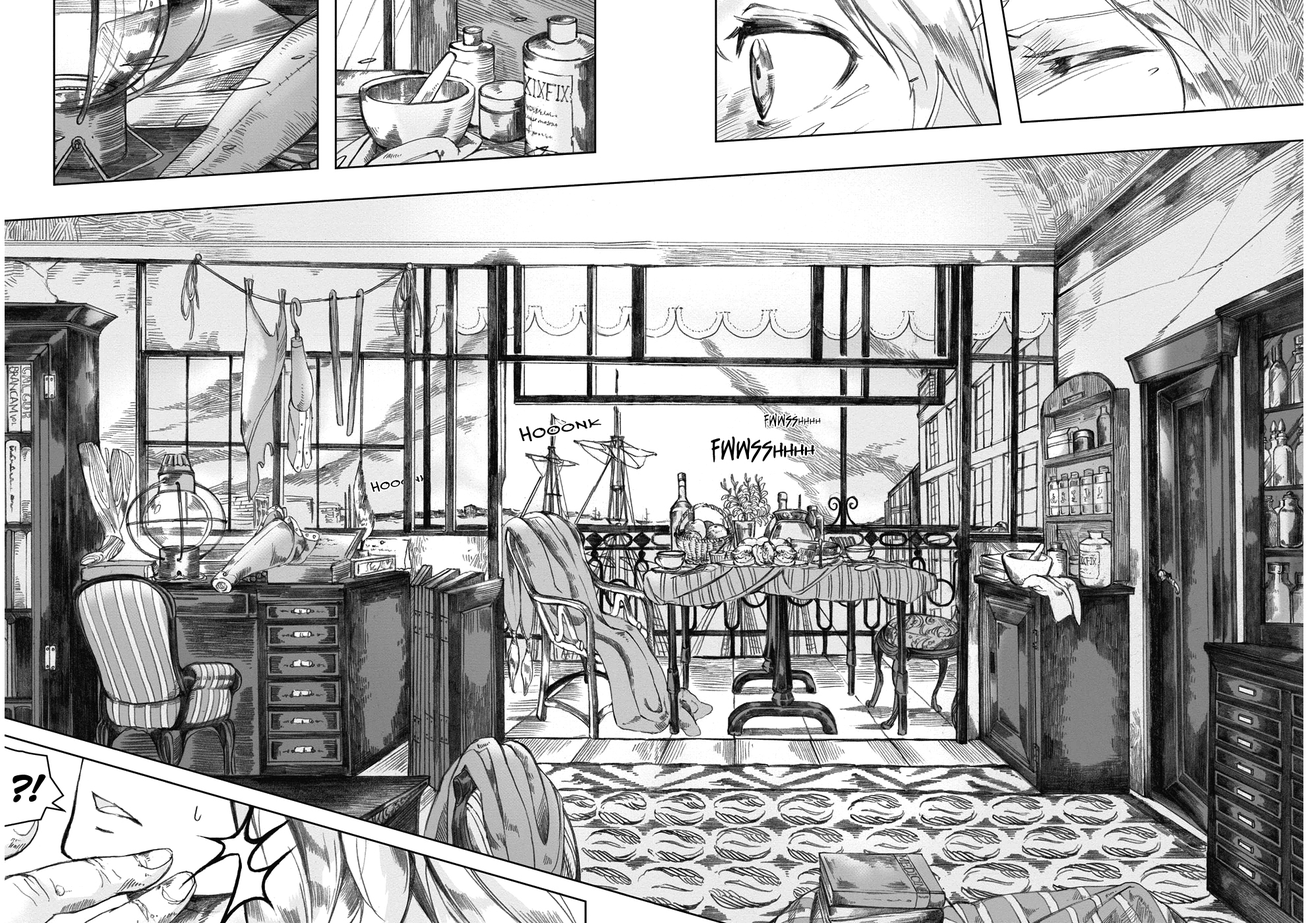bubble: (4, 747, 66, 827)
